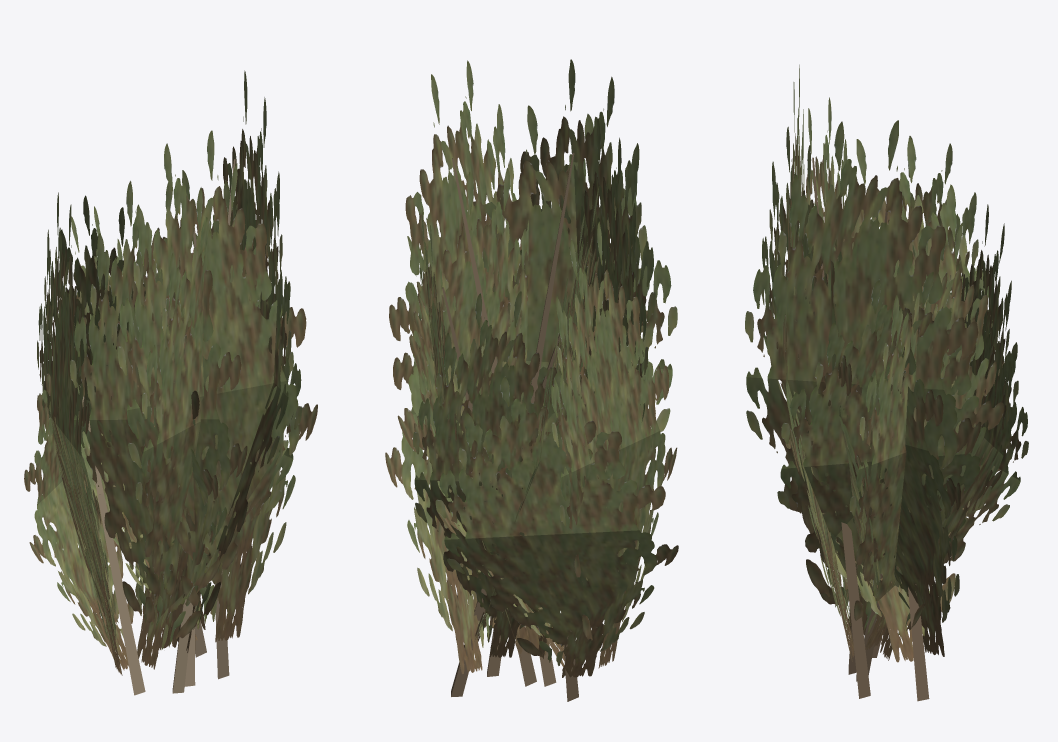
Rendered from Bush_06_Tall_Twiggy.fbx.
3 views of the same model, side by side, from view 1: azimuth 30°, elevation 25°; view 2: azimuth 150°, elevation 25°; view 3: azimuth 270°, elevation 25° (orthographic). The views are drawn at different scales.
Visible parts, largest first — view 1: Bush_06_Tall_Twiggy.001; view 2: Bush_06_Tall_Twiggy.001; view 3: Bush_06_Tall_Twiggy.001.
Boxes of the visible parts, x1=… form: Bush_06_Tall_Twiggy.001: x1=24, y1=70, x2=317, y2=695; Bush_06_Tall_Twiggy.001: x1=385, y1=59, x2=678, y2=701; Bush_06_Tall_Twiggy.001: x1=745, y1=64, x2=1028, y2=701.
Bounding box in the file's own units: 61.56 × 122 × 57.
